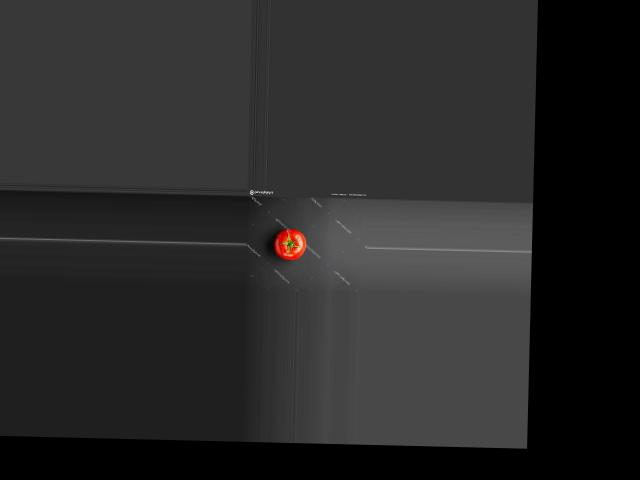tomato: (274, 228, 307, 260)
